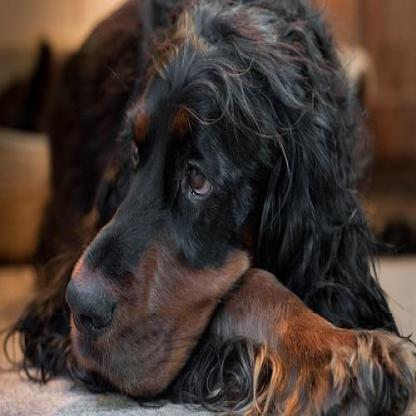Gordon_setter: (0, 0, 414, 413)
